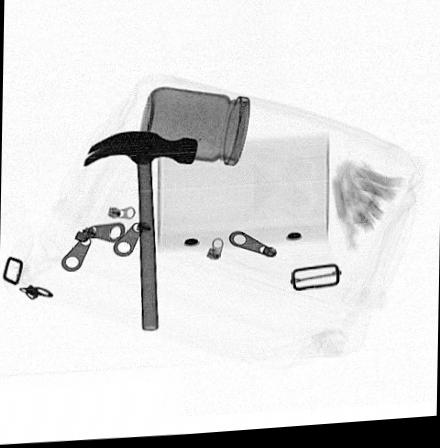Hammer: (83, 132, 198, 334)
